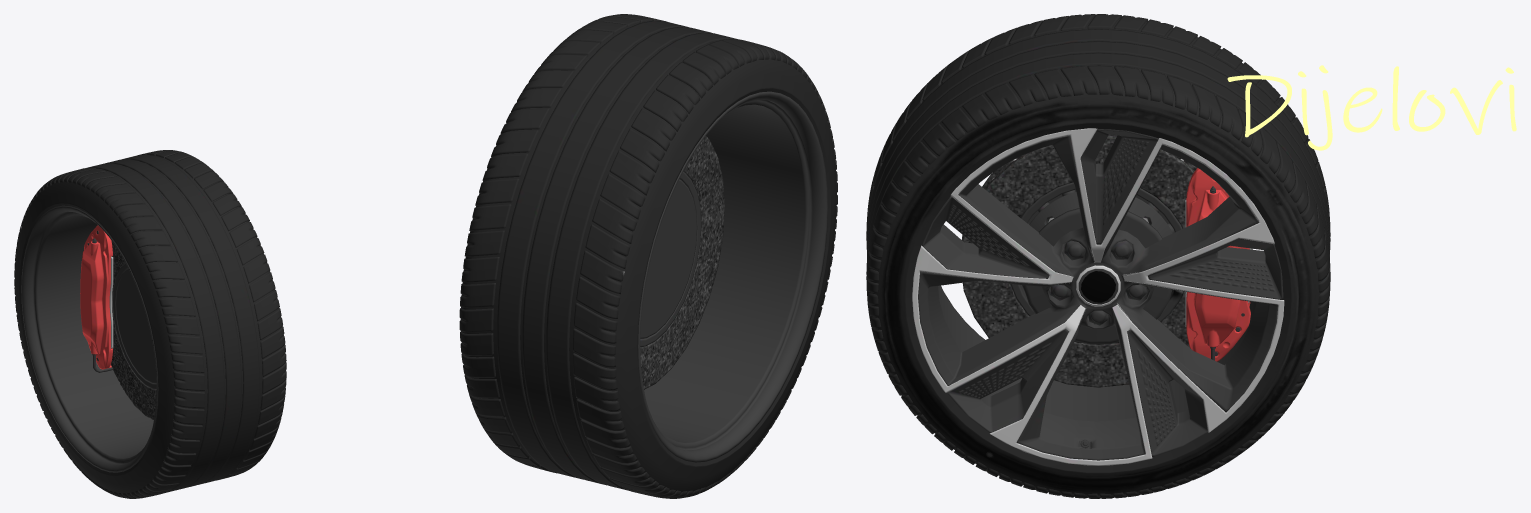
File: djelovi.glb
3 renders of one model, left to right at view 1: azimuth 30°, elevation 25°; view 2: azimuth 150°, elevation 25°; view 3: azimuth 270°, elevation 25°, orthographic. The views are drawn at different scales.
Visible parts, largest first — view 1: djelovi; view 2: djelovi; view 3: djelovi, Login, djelovi001.
Part boxes in pixels (bbox=[...]): djelovi: bbox=[14, 150, 286, 498]; djelovi: bbox=[459, 14, 837, 498]; djelovi: bbox=[866, 14, 1330, 498]; Login: bbox=[1227, 65, 1516, 150]; djelovi001: bbox=[1081, 271, 1115, 302].
Bounding box in the file's own units: 0.2645 × 0.5353 × 0.6774.
3 materials, 1 textured.
